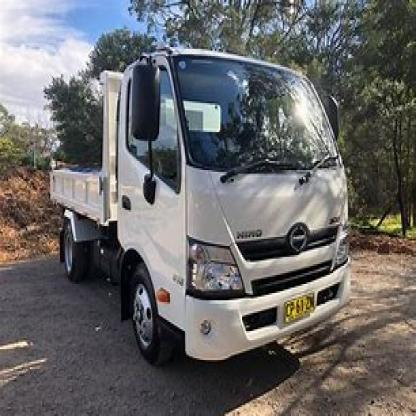dump_truck: (26, 37, 363, 374)
